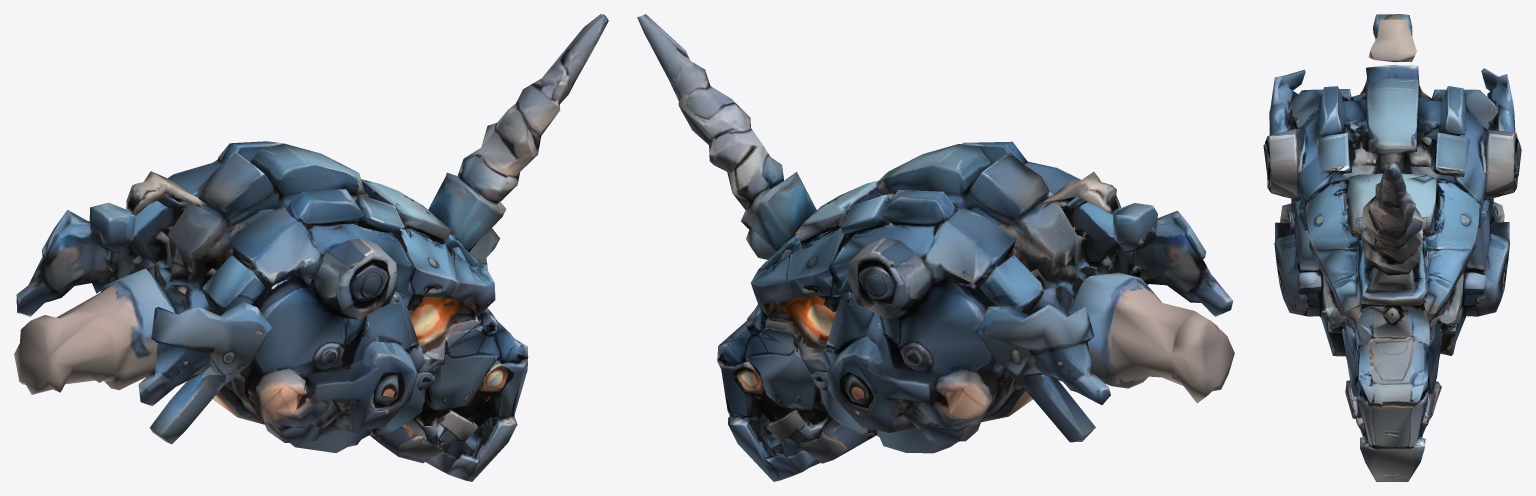
The picture shows the model from 3 angles, left to right: view 1: azimuth 30°, elevation 25°; view 2: azimuth 150°, elevation 25°; view 3: azimuth 270°, elevation 25°; orthographic projection. The views are drawn at different scales.
Visible parts, largest first — view 1: tripo_node_33599d67-902c-41fa-be9c-1863190e43e0; view 2: tripo_node_33599d67-902c-41fa-be9c-1863190e43e0; view 3: tripo_node_33599d67-902c-41fa-be9c-1863190e43e0.
Part boxes in pixels (left/top/right/bottom): tripo_node_33599d67-902c-41fa-be9c-1863190e43e0: left=14, top=14, right=608, bottom=481; tripo_node_33599d67-902c-41fa-be9c-1863190e43e0: left=637, top=14, right=1234, bottom=481; tripo_node_33599d67-902c-41fa-be9c-1863190e43e0: left=1263, top=14, right=1521, bottom=481.
Bounding box in the file's own units: 0.9964 × 0.6977 × 0.4319.
Materials: 1 (1 with a texture image).
